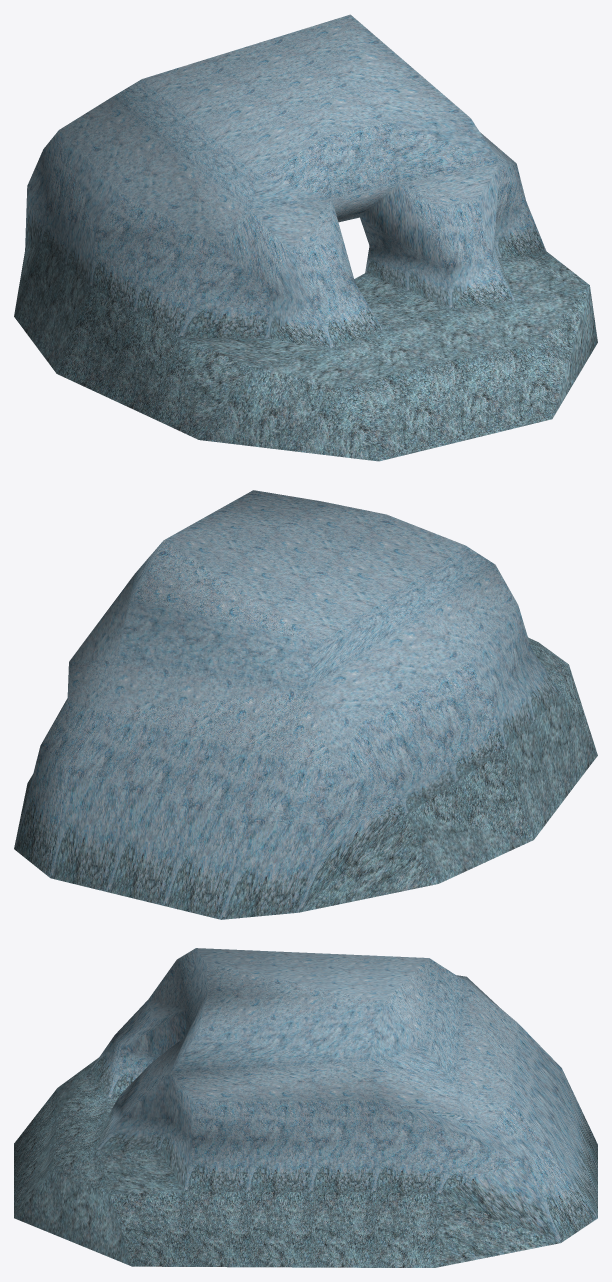
File: thm_all_cave_flatland_s02_ice_r0_mesh_l3.fbx
The picture shows the model from 3 angles, top to bottom: view 1: azimuth 30°, elevation 25°; view 2: azimuth 150°, elevation 25°; view 3: azimuth 270°, elevation 25°; orthographic projection. The views are drawn at different scales.
Parts seen in each view (by area): view 1: mesh_node; view 2: mesh_node; view 3: mesh_node.
Boxes of the visible parts, x1,y1,x2,y2 form: mesh_node: [14, 14, 597, 461]; mesh_node: [14, 490, 597, 919]; mesh_node: [14, 948, 597, 1267].
Bounding box in the file's own units: 56.42 × 30.46 × 73.46.
